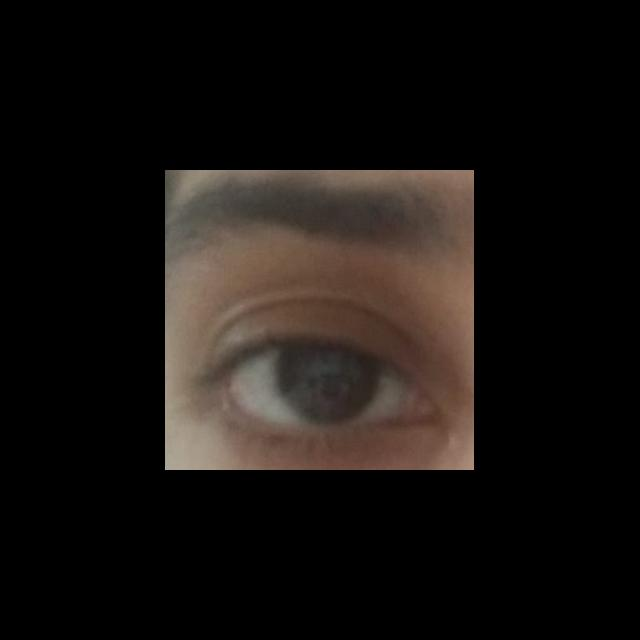eye: (228, 341, 416, 431)
iris: (278, 345, 381, 422)
